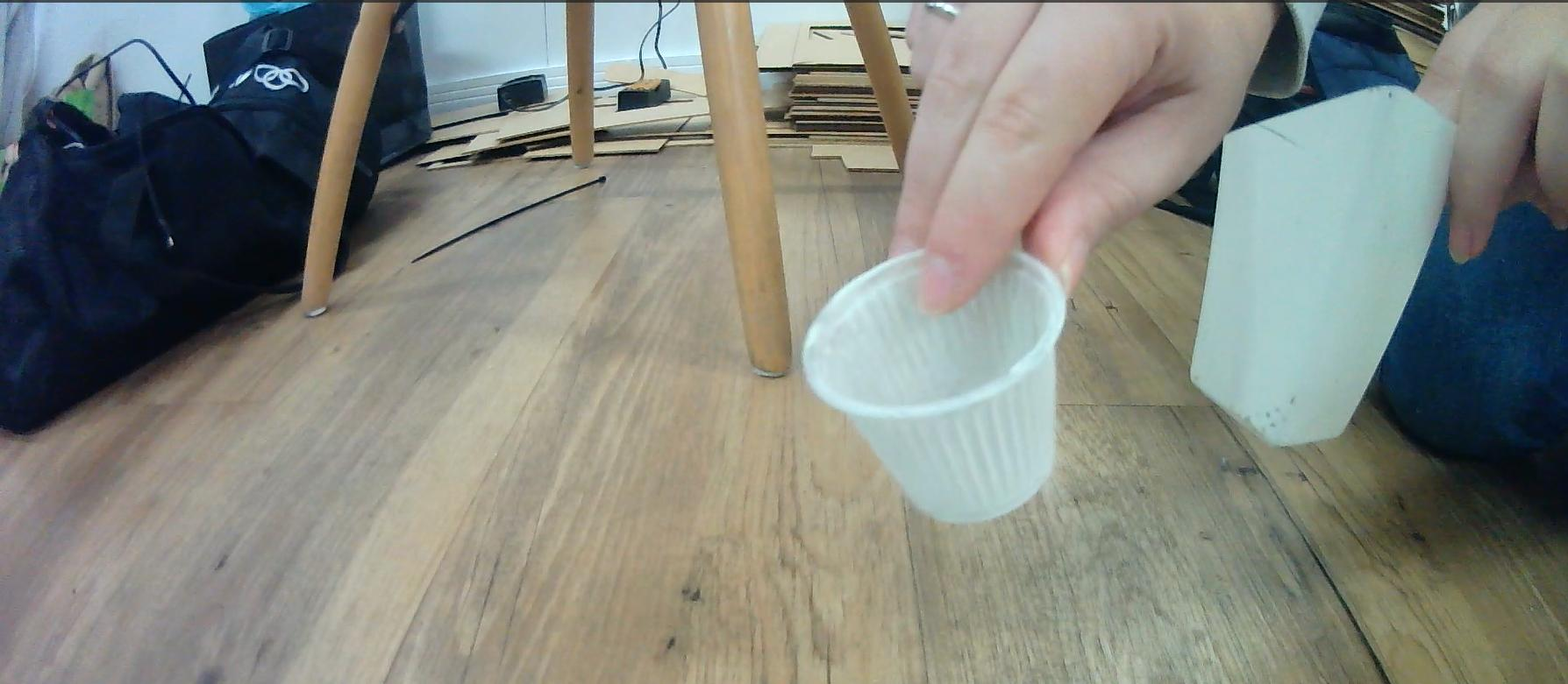erva_daninha: (1187, 84, 1460, 448)
planta: (797, 248, 1068, 525)
